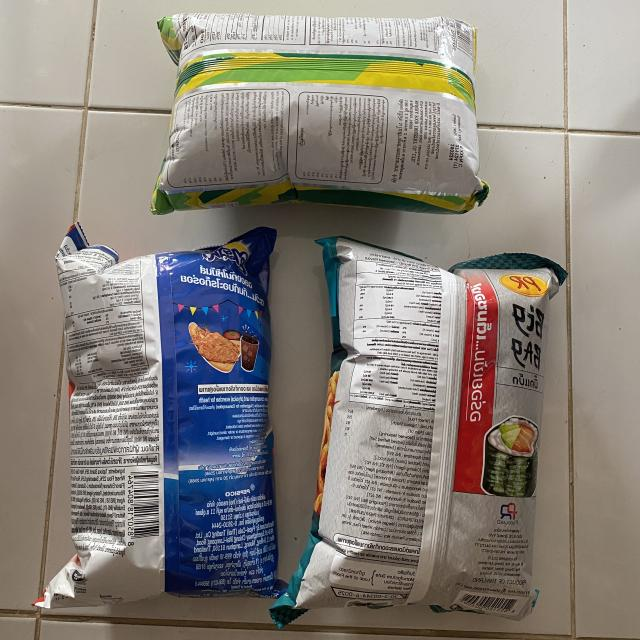plastik: (270, 237, 566, 627), (34, 224, 280, 609), (152, 13, 489, 214)
